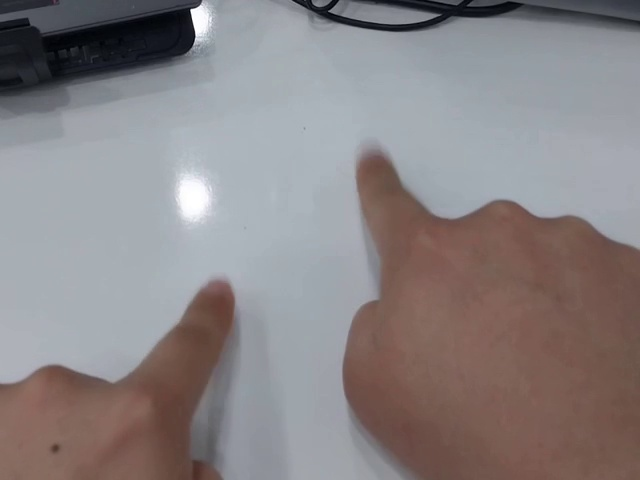fingers: (188, 279, 235, 331), (354, 151, 403, 194)
